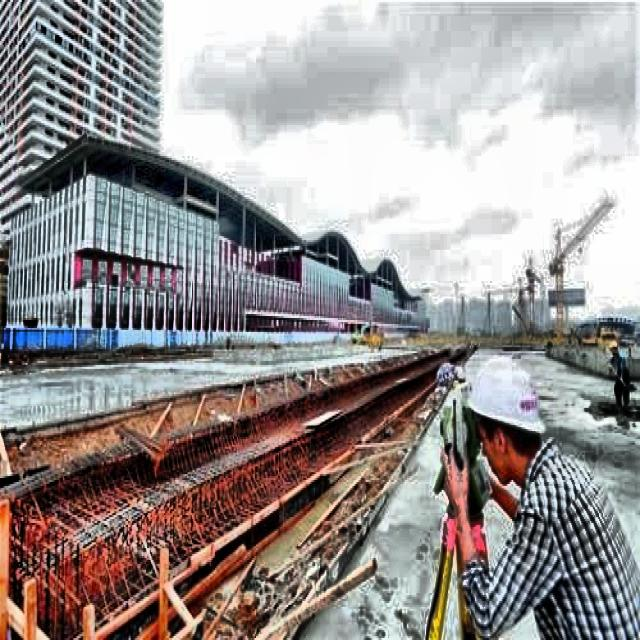helmet: (460, 345, 556, 486)
